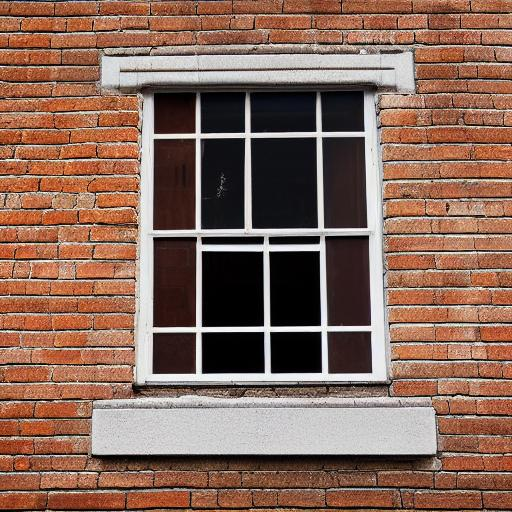Window: (87, 48, 440, 462)
